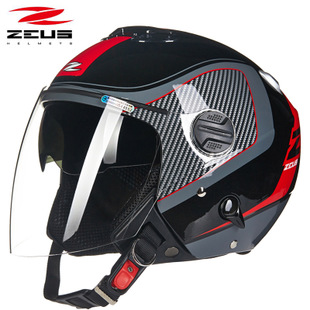helmet: (42, 39, 294, 278)
